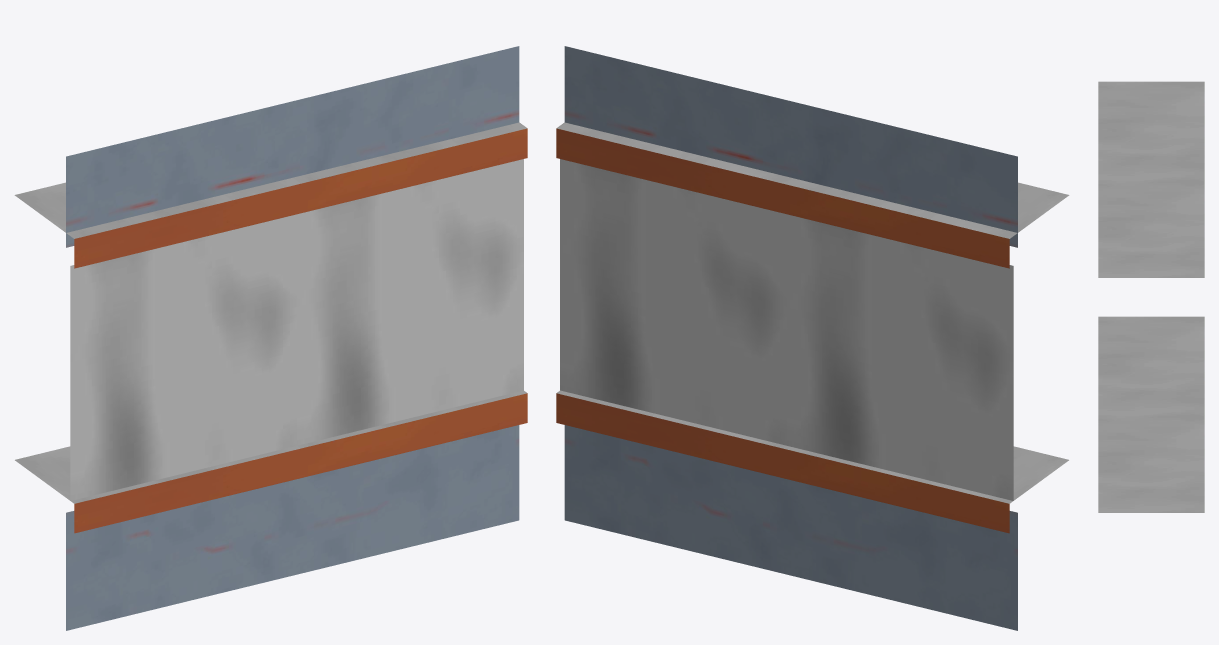
The model's file is Wall_Window_A.glb.
3 views of the same model, side by side, from view 1: azimuth 30°, elevation 25°; view 2: azimuth 150°, elevation 25°; view 3: azimuth 270°, elevation 25° (orthographic). The views are drawn at different scales.
Parts seen in each view (by area): view 1: Wall_Window_A; view 2: Wall_Window_A; view 3: Wall_Window_A.
Boxes of the visible parts, bbox=[...] form: Wall_Window_A: bbox=[14, 46, 527, 630]; Wall_Window_A: bbox=[556, 46, 1069, 630]; Wall_Window_A: bbox=[1098, 81, 1204, 512].
Size of the model in its own units: 6 by 6 by 1.38.
3 materials, 3 textured.
